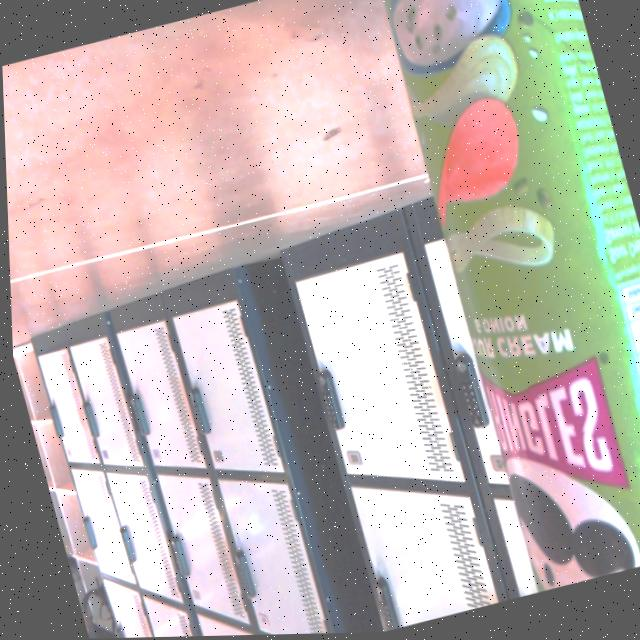greenpringles: (349, 0, 640, 602)
